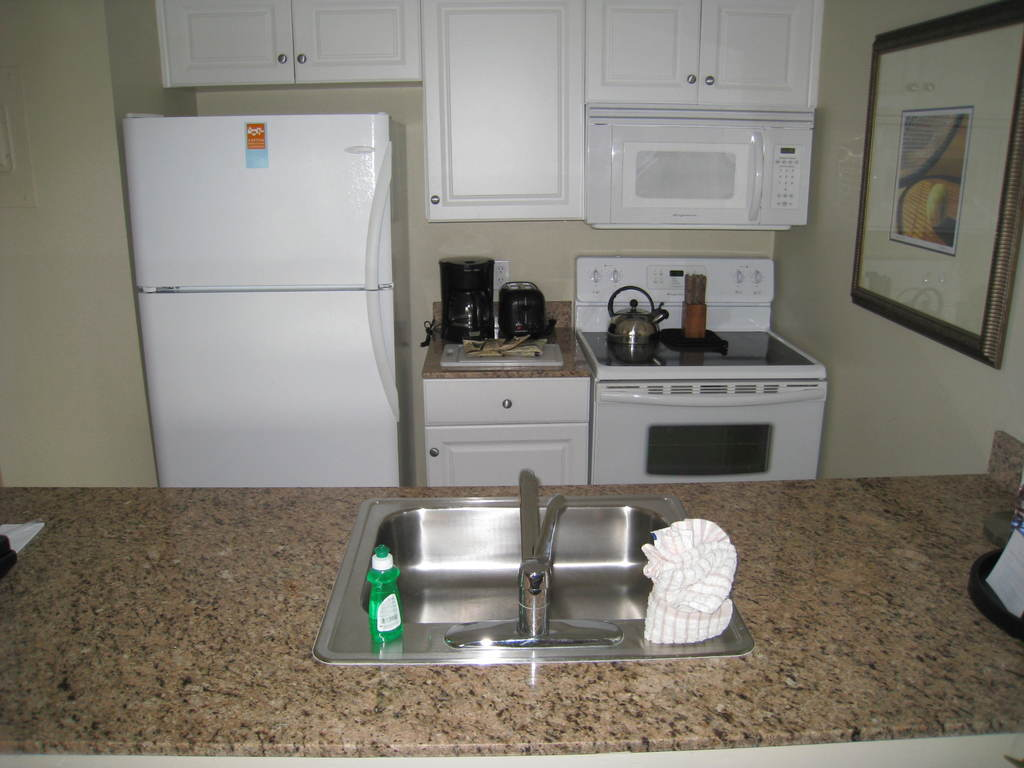tap: (437, 491, 681, 671)
